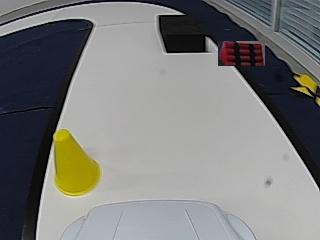block: (158, 15, 207, 52)
cone: (52, 129, 102, 197)
